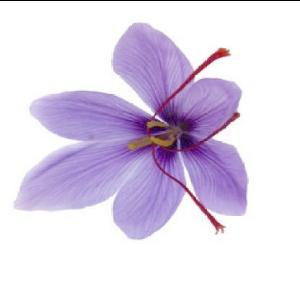Saffron: (12, 27, 244, 224)
